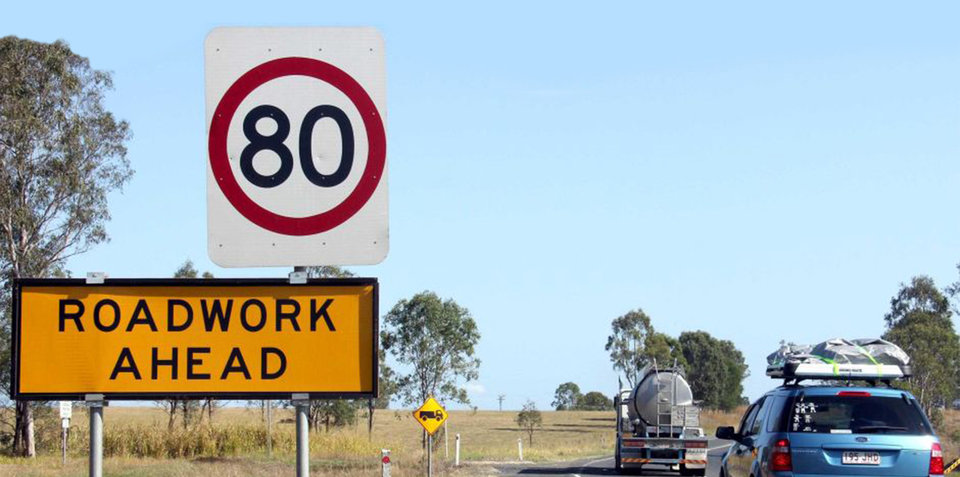Speed_limit_80km: (204, 57, 393, 238)
